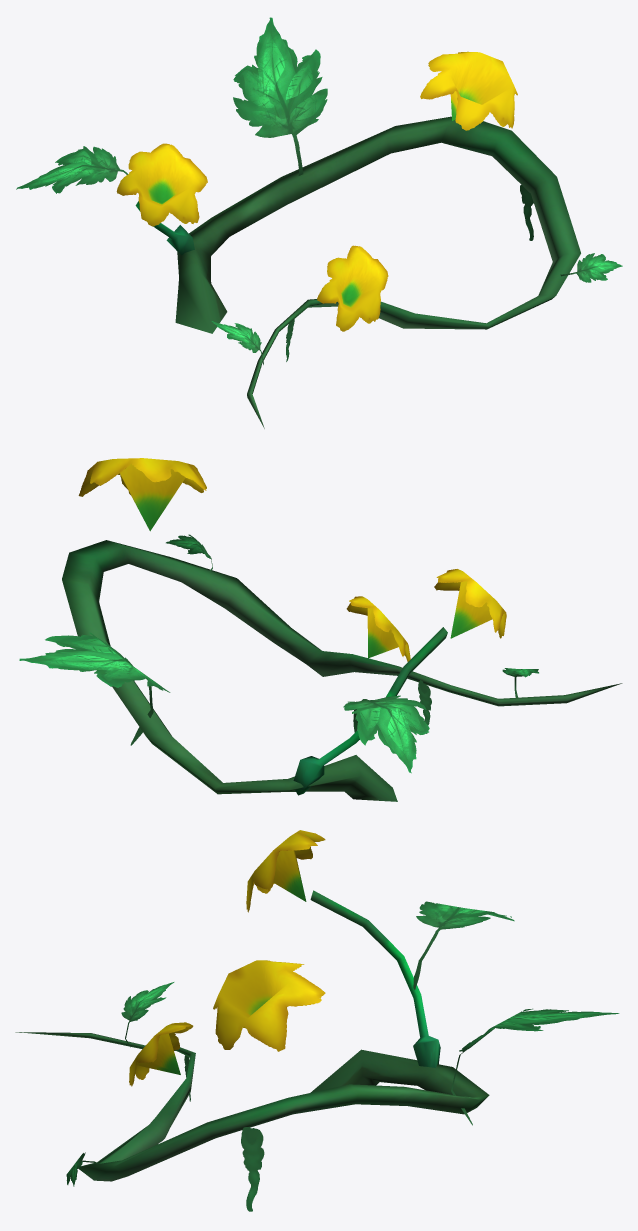
The model's file is pumpkin_stage1.FBX.
The picture shows the model from 3 angles, top to bottom: view 1: azimuth 30°, elevation 25°; view 2: azimuth 150°, elevation 25°; view 3: azimuth 270°, elevation 25°; orthographic projection. The views are drawn at different scales.
Visible parts, largest first — view 1: pumpkin_stage1; view 2: pumpkin_stage1; view 3: pumpkin_stage1.
Part boxes in pixels (box(x1,y1,x2,y2)): pumpkin_stage1: box(16, 17, 622, 428); pumpkin_stage1: box(19, 458, 622, 801); pumpkin_stage1: box(15, 830, 619, 1211).
Bounding box in the file's own units: 4.31 × 2.29 × 4.85.
Materials: 1 (1 with a texture image).
